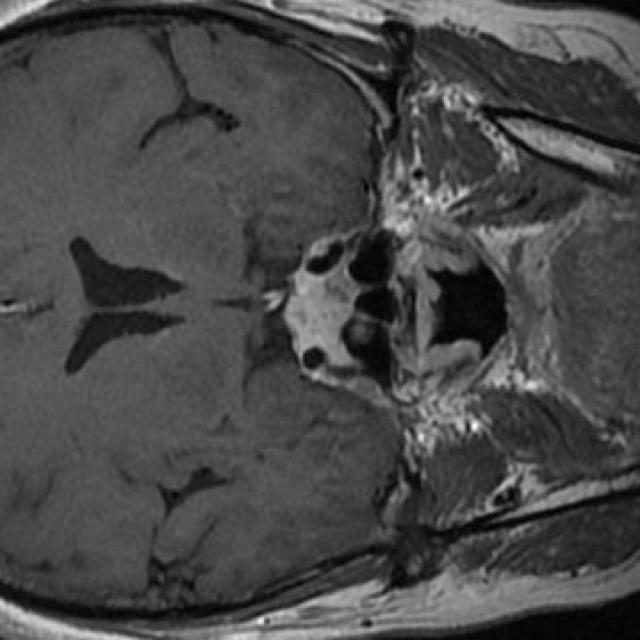pituitary: (283, 269, 357, 349)
